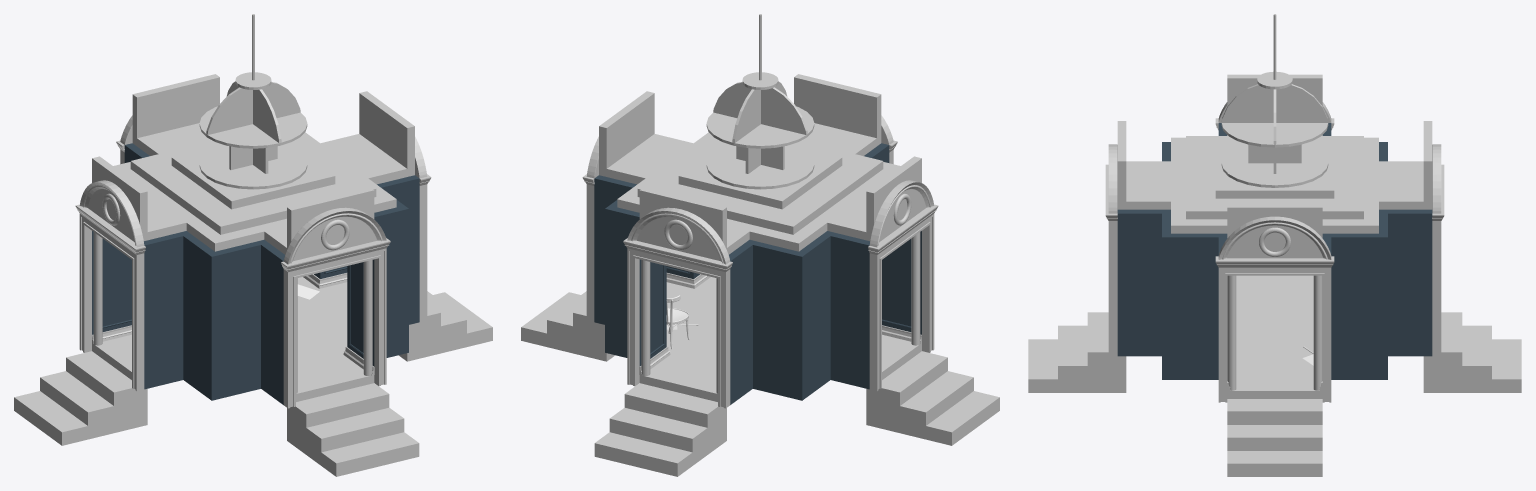
Rendered from monumentoajustica.glb.
3 renders of one model, left to right at view 1: azimuth 30°, elevation 25°; view 2: azimuth 150°, elevation 25°; view 3: azimuth 270°, elevation 25°, orthographic.
Visible parts, largest first — view 1: Base.002, Tecto, Escadas, Base.003, Base, Circle.006, Abobada_01, Colunas Estreitas, Circle.002, Abobada_03, Circle.001, Base.004 (+3 smaller); view 2: Base.002, Tecto, Escadas, Base.003, Base, Circle.006, Abobada_01, Colunas Estreitas, Circle.002, Abobada_03, Circle.001, Base.004 (+4 smaller); view 3: Base.002, Tecto, Escadas, Base, Base.003, Circle.006, Circle.001, Abobada_01, Colunas Estreitas, Abobada_03, Plane.002, Abobada_03.001.
Boxes of the visible parts, box(x1,y1,x2,y2) form: Base.002: box(92, 143, 419, 404); Tecto: box(92, 74, 414, 254); Escadas: box(14, 291, 492, 476); Base.003: box(75, 140, 431, 408); Base: box(92, 277, 374, 401); Circle.006: box(79, 115, 427, 264); Abobada_01: box(199, 145, 307, 189); Colunas Estreitas: box(93, 232, 372, 393); Circle.002: box(206, 82, 300, 134); Abobada_03: box(199, 106, 307, 148); Circle.001: box(226, 81, 281, 143); Base.004: box(92, 273, 374, 375); Base.002: box(594, 143, 921, 404); Tecto: box(599, 74, 921, 254); Escadas: box(521, 291, 999, 476); Base.003: box(582, 140, 938, 408); Base: box(639, 277, 921, 401); Circle.006: box(586, 115, 934, 264); Abobada_01: box(706, 145, 814, 189); Colunas Estreitas: box(641, 232, 920, 393); Circle.002: box(713, 82, 807, 134); Abobada_03: box(706, 106, 814, 148); Circle.001: box(732, 81, 787, 143); Base.004: box(639, 273, 921, 375); Base.002: box(1117, 123, 1432, 379); Tecto: box(1117, 74, 1432, 237); Escadas: box(1028, 312, 1521, 476); Base: box(1227, 275, 1322, 398); Base.003: box(1105, 118, 1444, 402); Circle.006: box(1108, 102, 1441, 259); Circle.001: box(1221, 84, 1328, 122); Abobada_01: box(1221, 144, 1328, 187); Colunas Estreitas: box(1227, 275, 1322, 390); Abobada_03: box(1221, 123, 1328, 147); Plane.002: box(1248, 144, 1301, 163); Abobada_03.001: box(1257, 71, 1292, 89).
Size of the model in its own units: 8.3 by 6.65 by 8.3.
